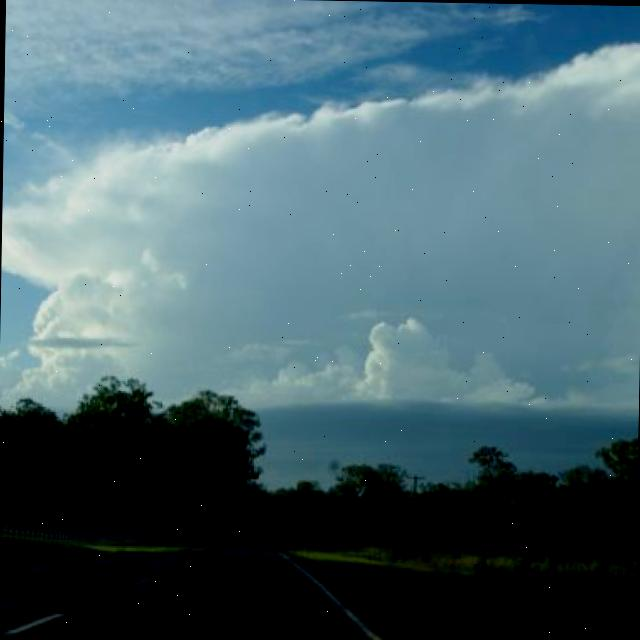Cb: (1, 19, 640, 379)
